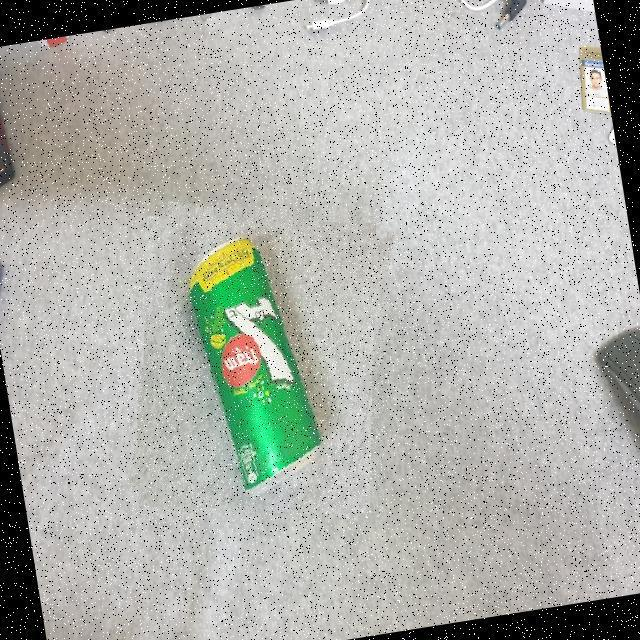recyclable: (138, 209, 387, 513)
